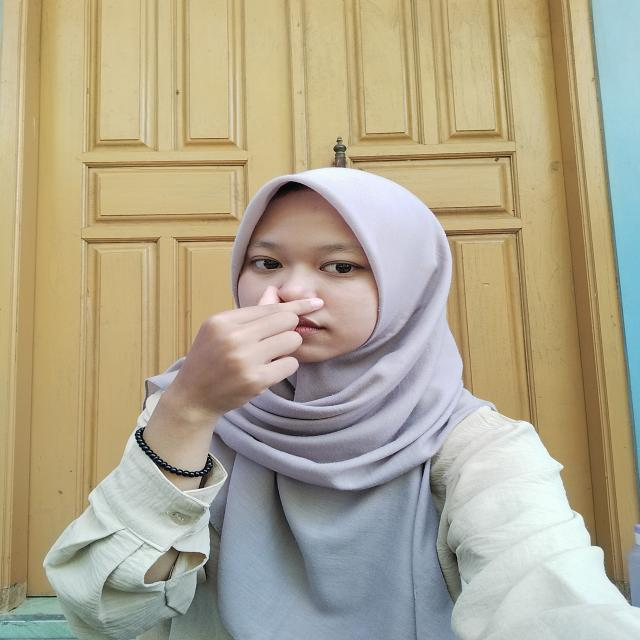bau: (150, 276, 328, 428)
